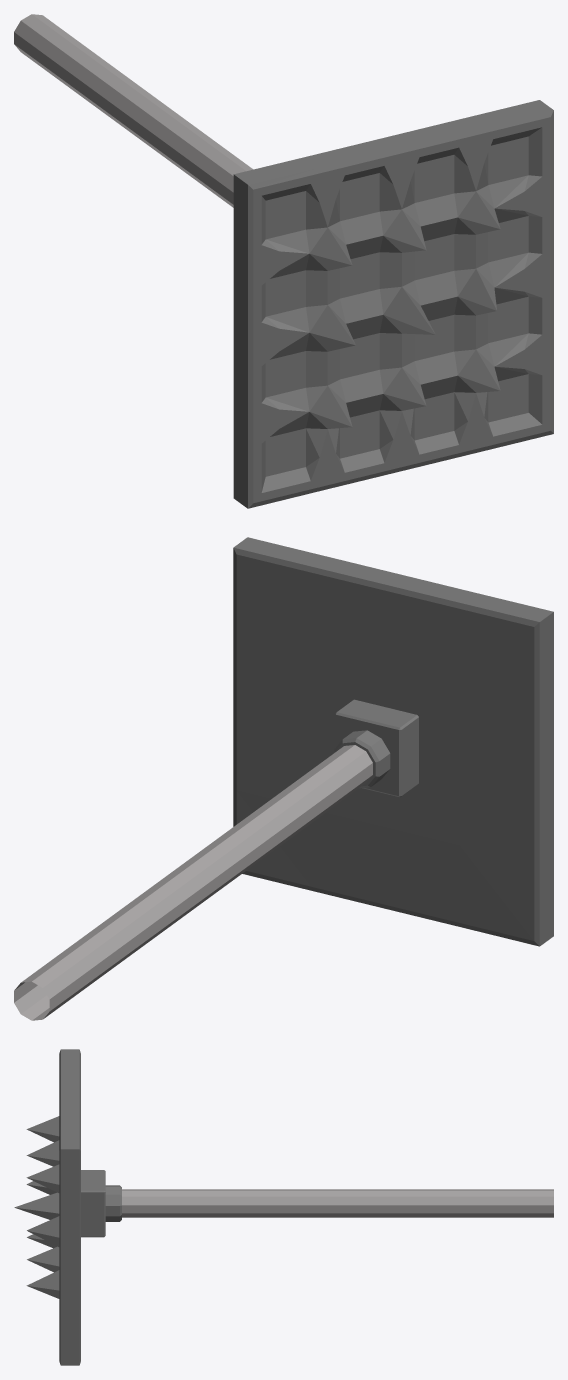
File: SMLStoneSpikeTrapWall.fbx
The picture shows the model from 3 angles, top to bottom: view 1: azimuth 30°, elevation 25°; view 2: azimuth 150°, elevation 25°; view 3: azimuth 270°, elevation 25°; orthographic projection. The views are drawn at different scales.
Visible parts, largest first — view 1: SMLStoneSpikeTrapWall; view 2: SMLStoneSpikeTrapWall; view 3: SMLStoneSpikeTrapWall.
Part boxes in pixels (x1=…): SMLStoneSpikeTrapWall: x1=14, y1=14, x2=553, y2=508; SMLStoneSpikeTrapWall: x1=14, y1=537, x2=553, y2=1020; SMLStoneSpikeTrapWall: x1=14, y1=1049, x2=553, y2=1365.
Size of the model in its own units: 115 by 116 by 262.
